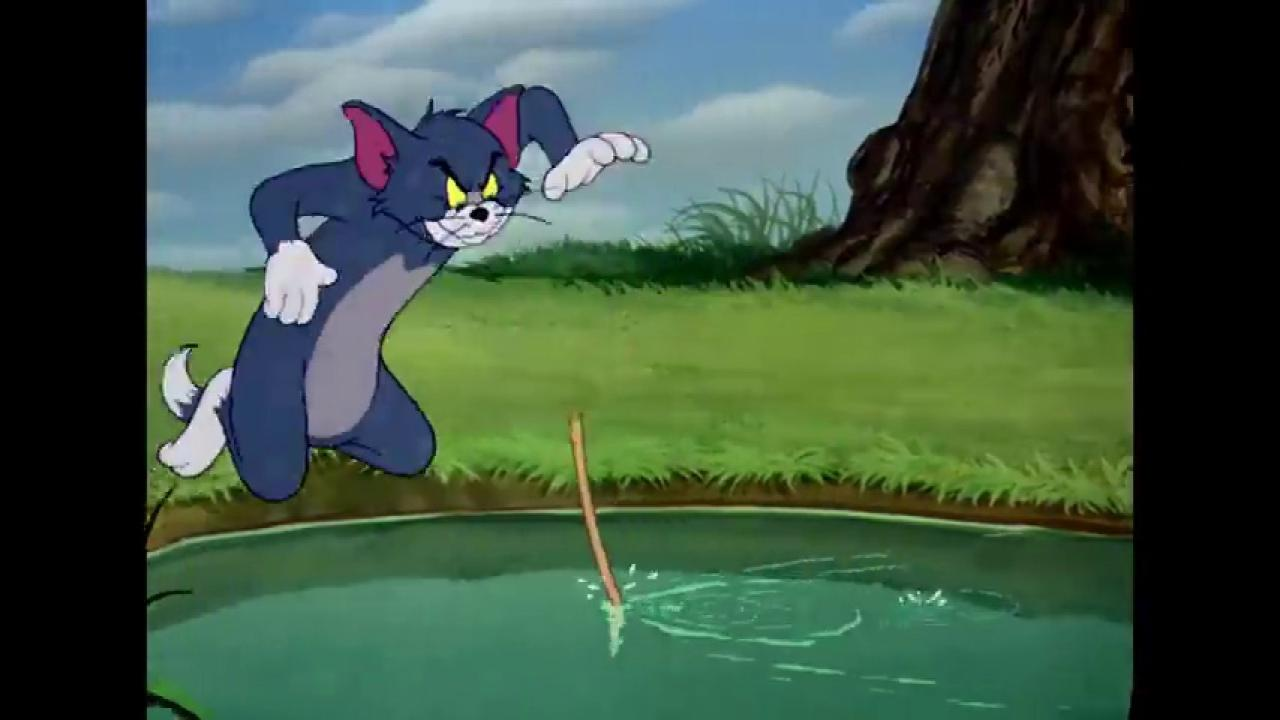Tom: (153, 82, 652, 501)
